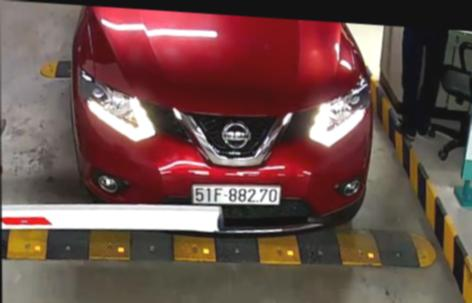License_Plate: (187, 179, 282, 210)
